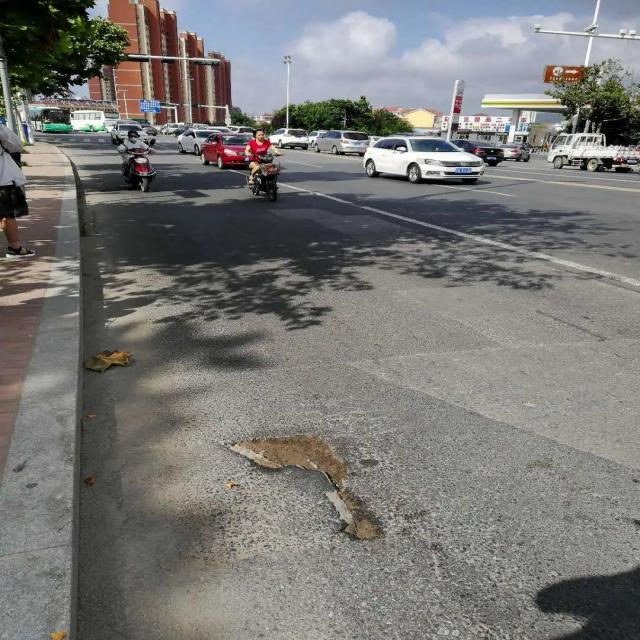Pothole: (230, 434, 387, 543)
